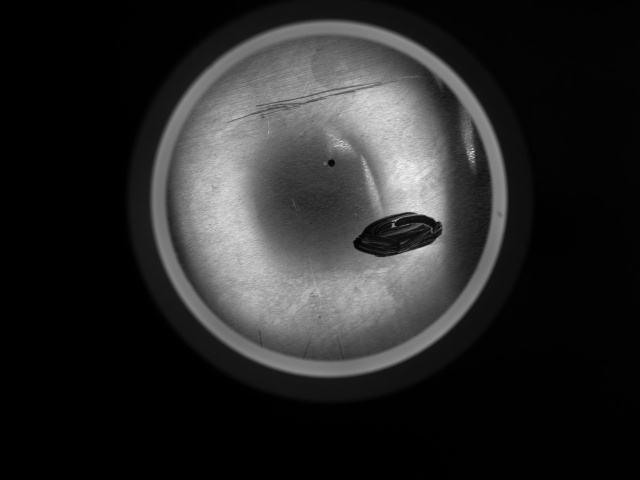ca_shang: (218, 75, 435, 126)
zang_wu: (349, 210, 443, 259)
zhen_kong: (323, 156, 339, 169)
